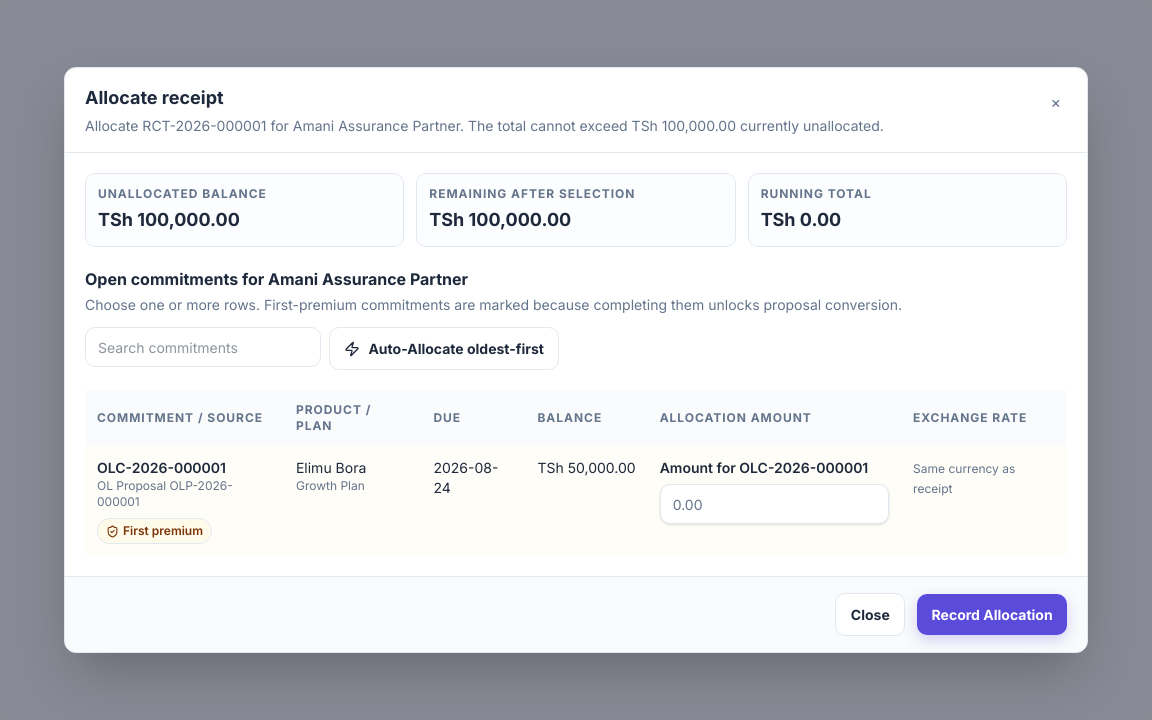
Test case: ReceiptAllocationModal Prompt 5 › renders a structured invalid-status allocation error from the backend
Type "10000" into the number field labelled "Amount for OLC-2026-000001".
click(774, 504); type("10000")  # box [660,484,889,524]
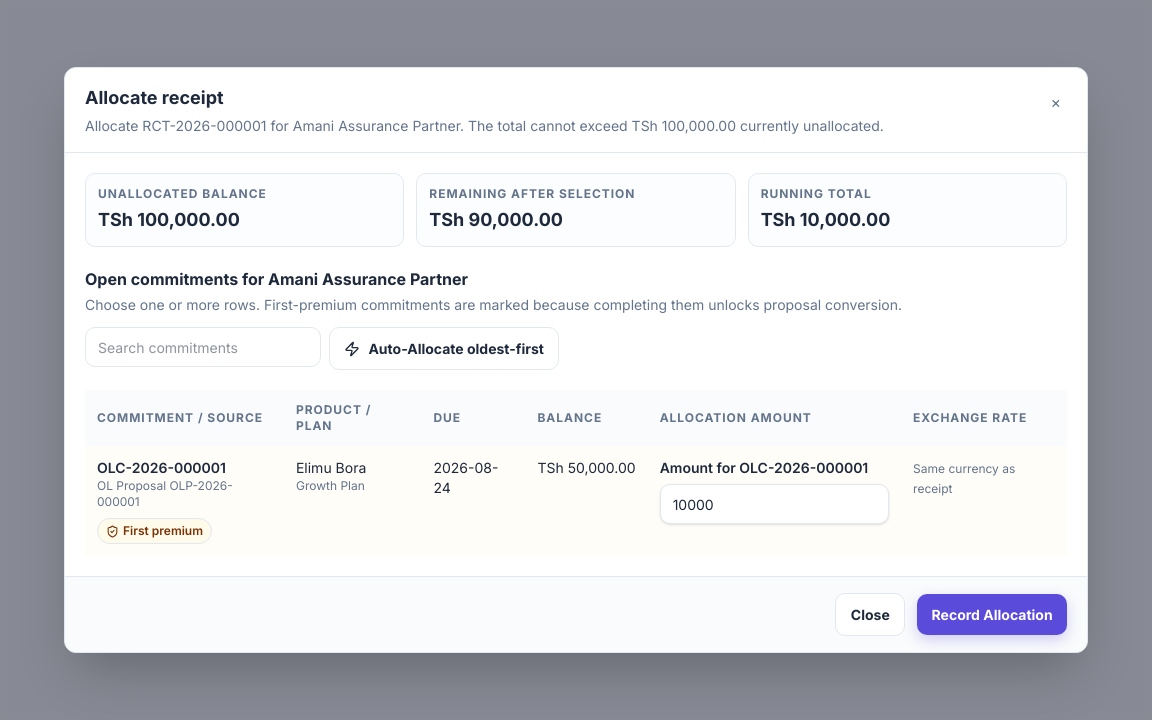
Click the button "Record Allocation".
click(992, 614)  # box [917,594,1067,635]
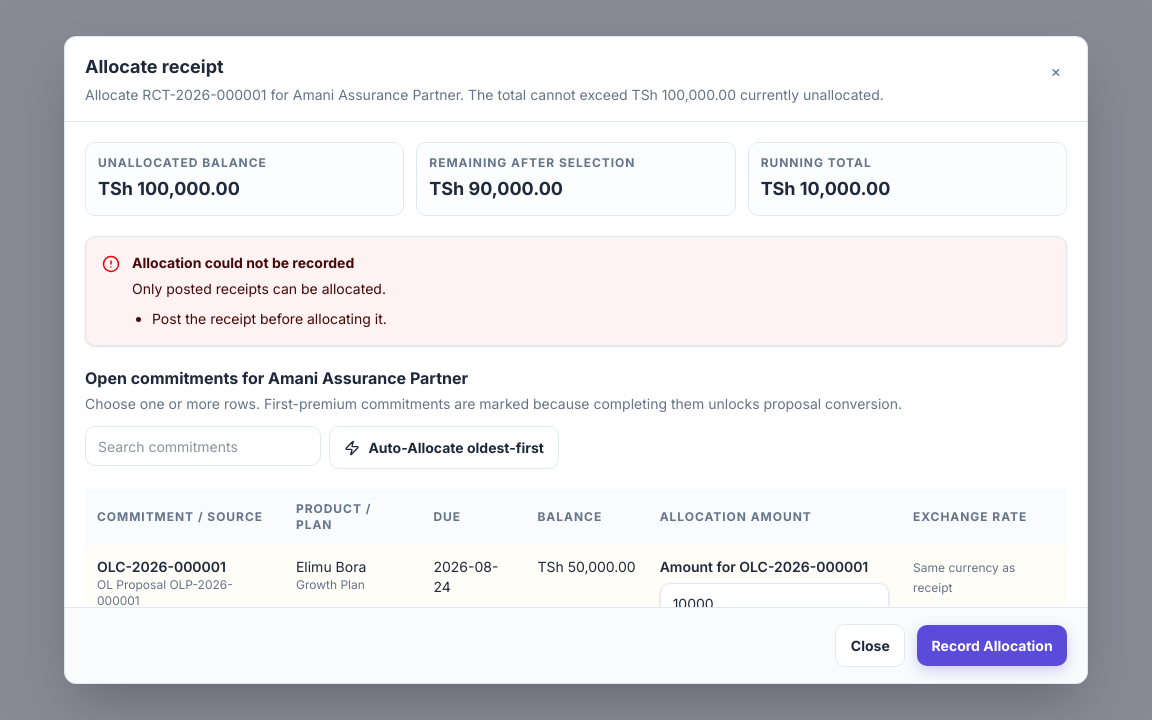
Now the text "Only posted receipts can be allocated." is shown, box [132,280,386,297]
Now the list item "Post the receipt before allocating it." is shown, box [152,310,387,327]
